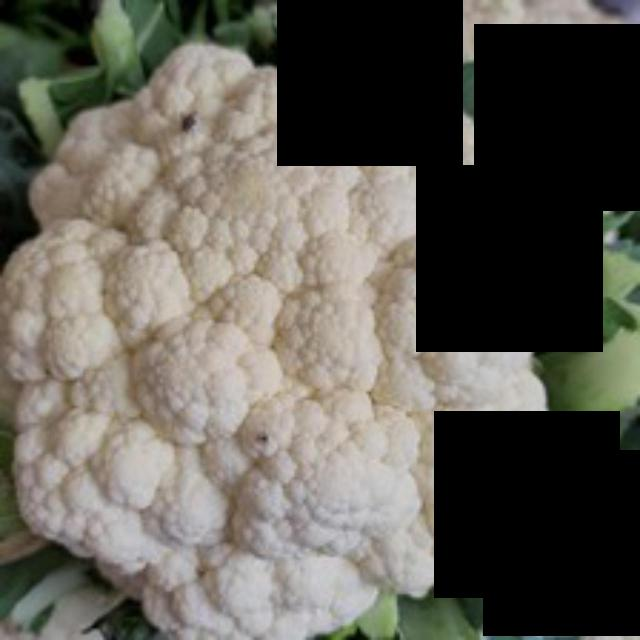cauliflower: (0, 28, 588, 637)
